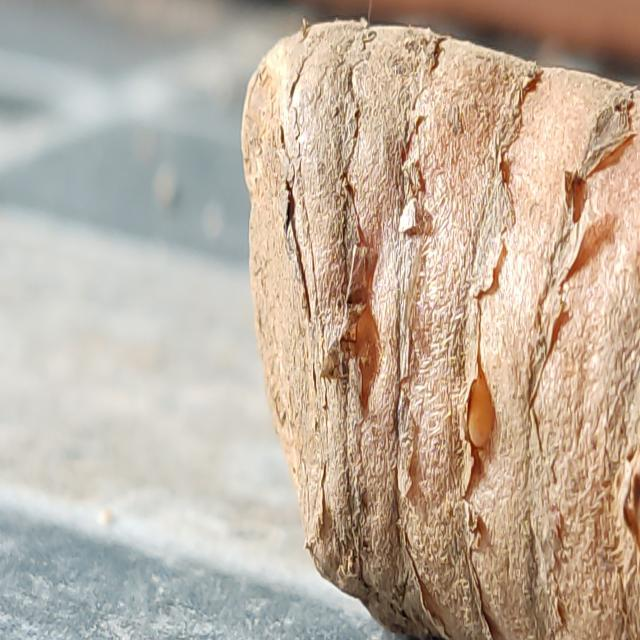ginger: (280, 77, 640, 640)
